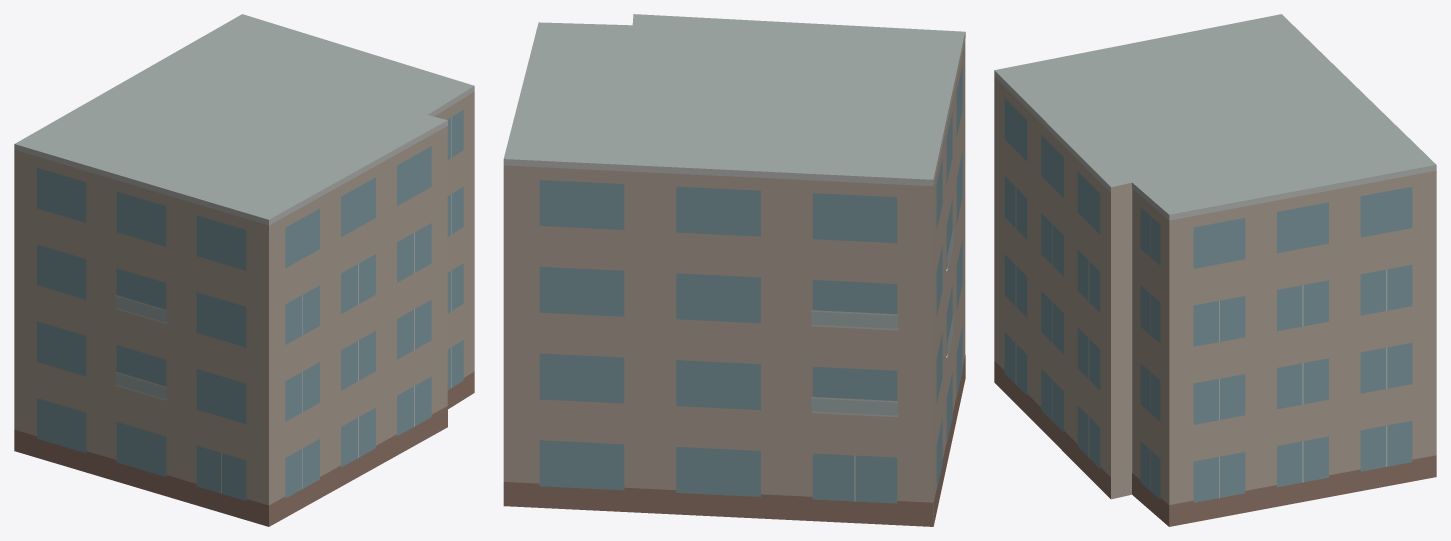
File: survey-upis-32741498.glb
3 views of the same model, side by side, from view 1: azimuth 30°, elevation 25°; view 2: azimuth 150°, elevation 25°; view 3: azimuth 270°, elevation 25° (orthographic). The views are drawn at different scales.
Visible parts, largest first — view 1: survey-upis-32741498.tmp; view 2: survey-upis-32741498.tmp; view 3: survey-upis-32741498.tmp.
Part boxes in pixels (x1,y1,x2,y2): survey-upis-32741498.tmp: [14, 14, 474, 526]; survey-upis-32741498.tmp: [503, 14, 965, 526]; survey-upis-32741498.tmp: [994, 14, 1436, 526].
Size of the model in its own units: 18.15 by 13.15 by 16.9.
